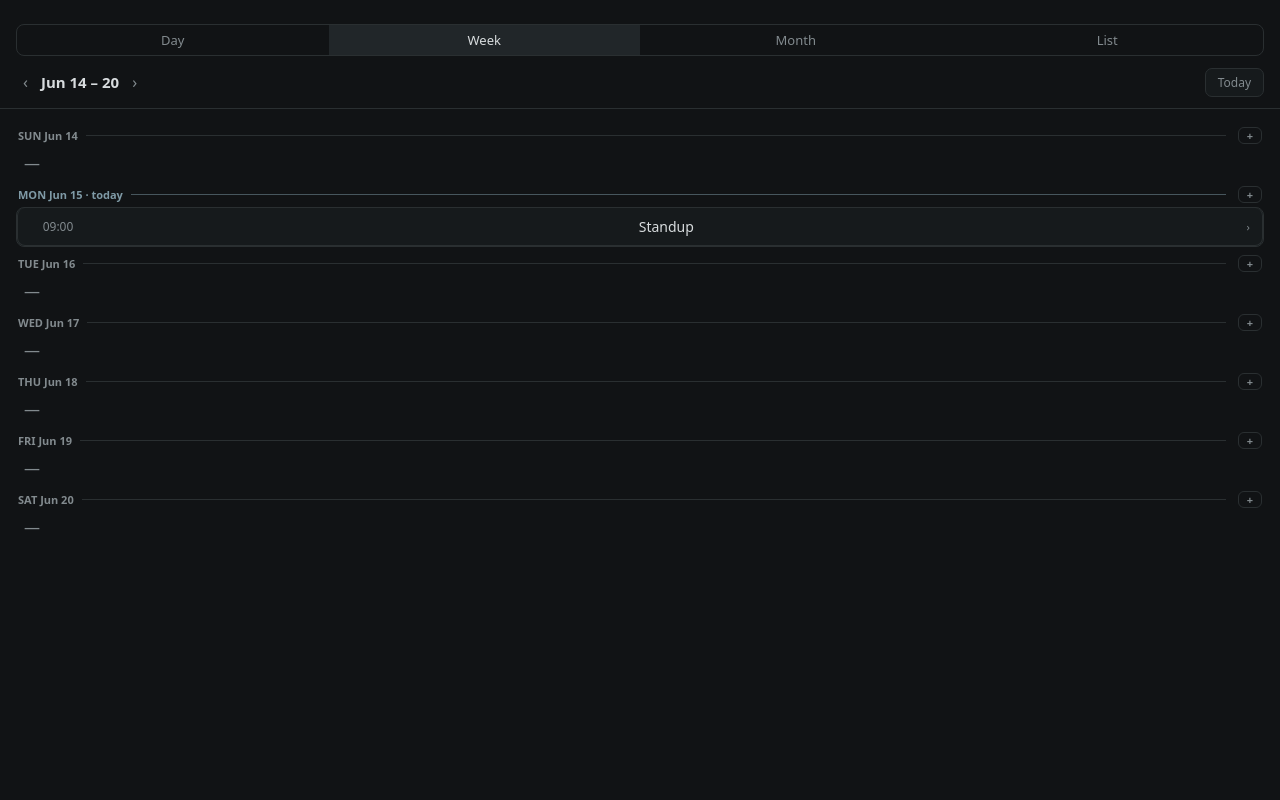
Test case: CalendarPage — event sheet › toggling a reminder preset POSTs the full set for the event
The image size is (1280, 800).
Expected: the text "Standup" is shown, x1=639 y1=217 x2=694 y2=236
Click the button "09:00 Standup ›".
click(640, 227)  # box x1=17 y1=208 x2=1263 y2=246
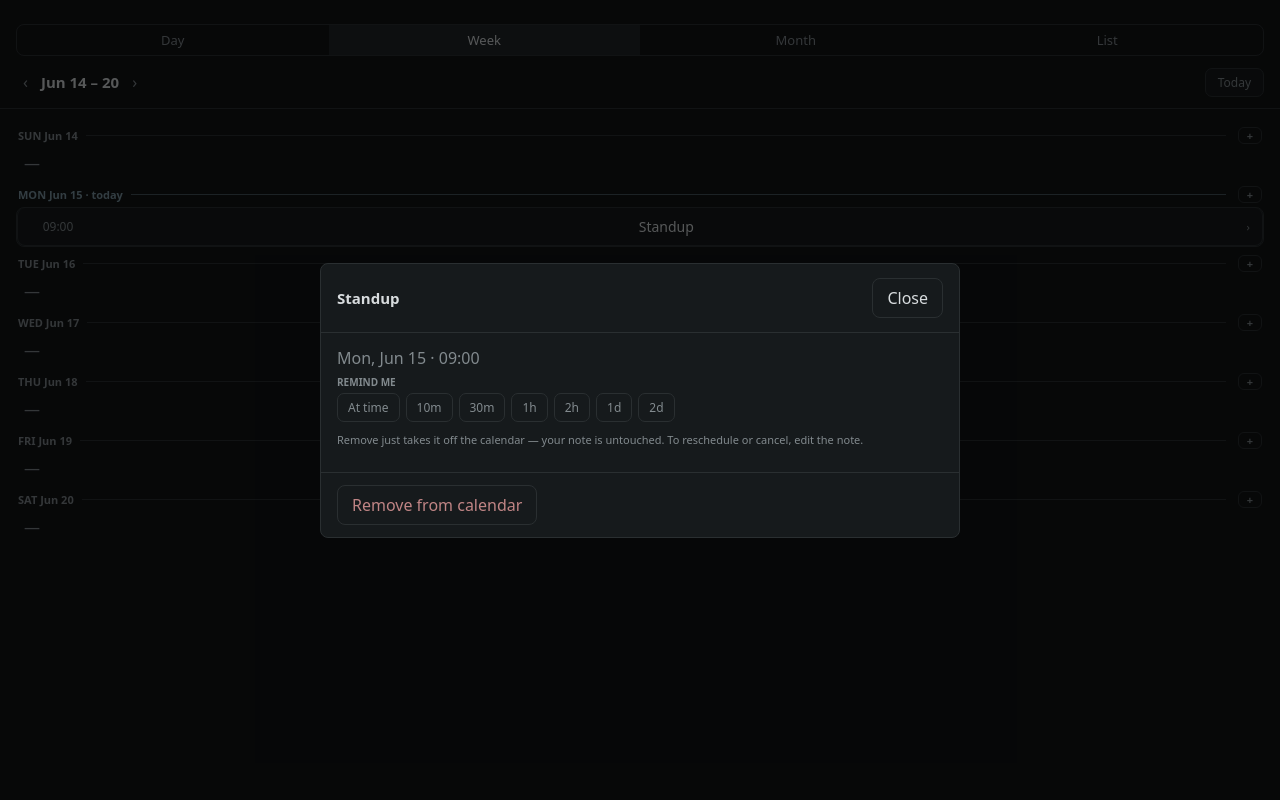
# It's a timed event → timed presets. Toggle "1h" (off 60).
Click the button "1h".
click(530, 407)  # box x1=512 y1=392 x2=548 y2=422
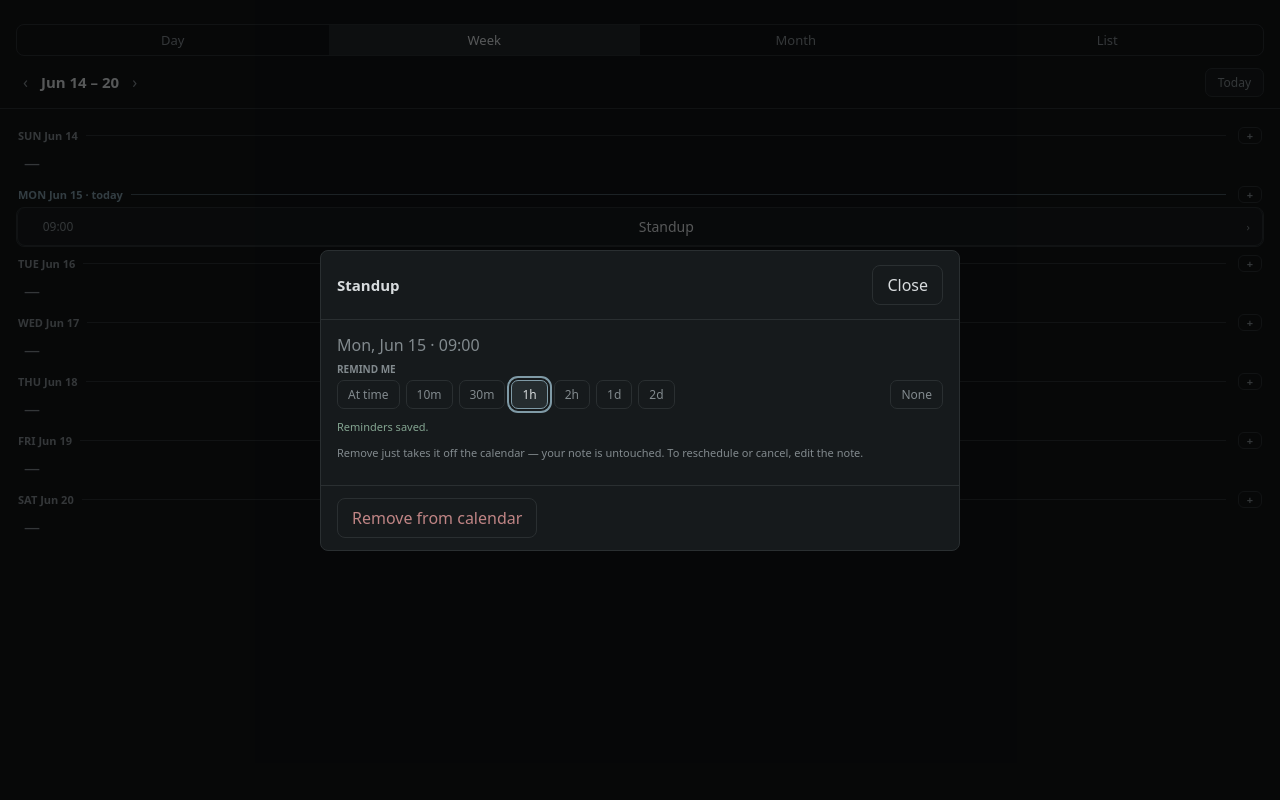
Expected: the text "Reminders saved." is shown, x1=337 y1=418 x2=429 y2=434
